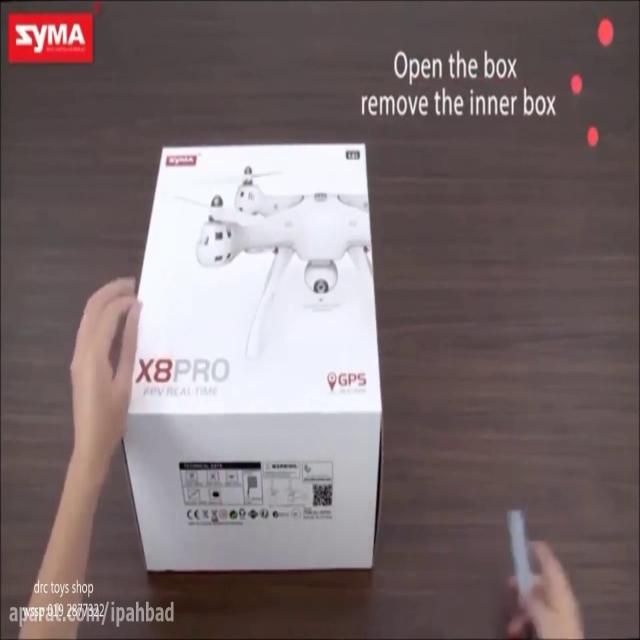drone: (176, 164, 378, 352)
